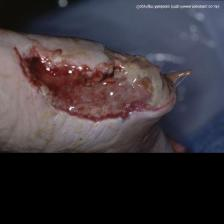Wound: (11, 36, 195, 129)
